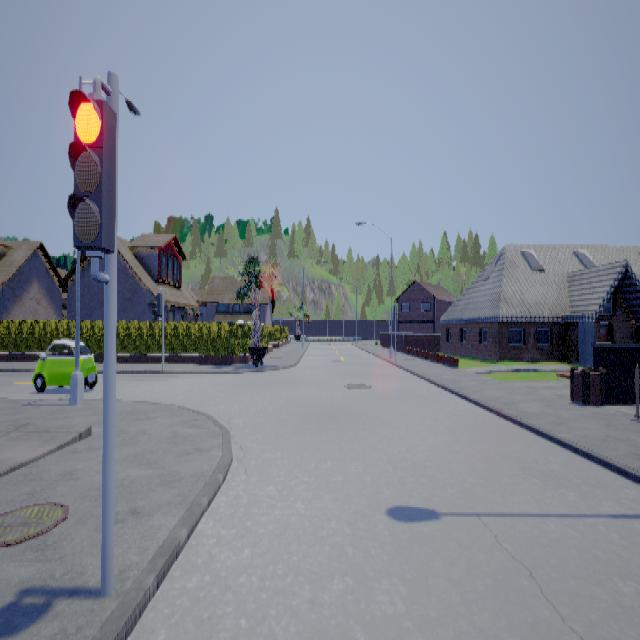red_light: (68, 74, 118, 283)
vehicle: (33, 335, 99, 391)
